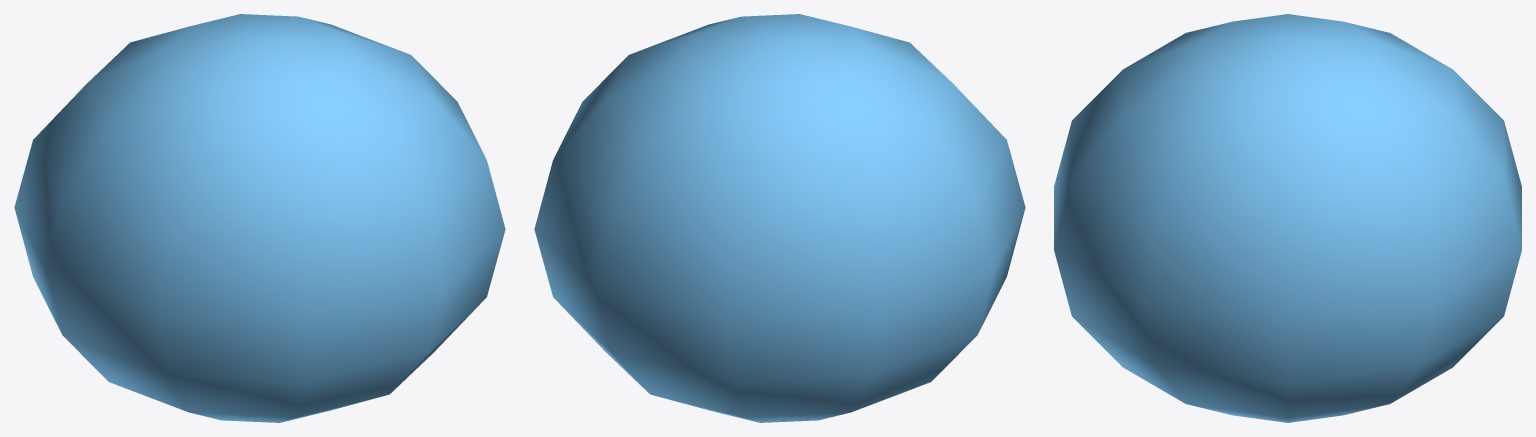
The model's file is frostbit_stage2.obj.
3 views of the same model, side by side, from view 1: azimuth 30°, elevation 25°; view 2: azimuth 150°, elevation 25°; view 3: azimuth 270°, elevation 25° (orthographic).
Size of the model in its own units: 2 by 1.6 by 1.9.
